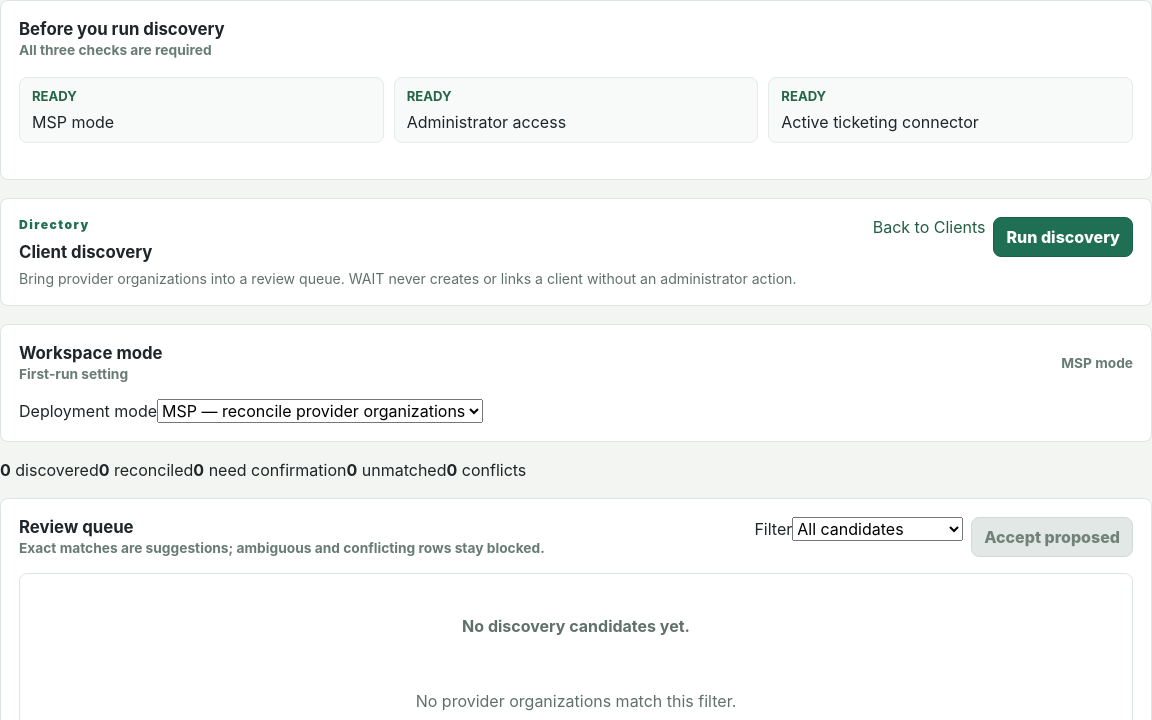
Scenario: ClientDiscovery › shows an error banner when discovery fails
Step 1. Click the button "Run discovery" → x=1063, y=237, box [994,217,1133,257]
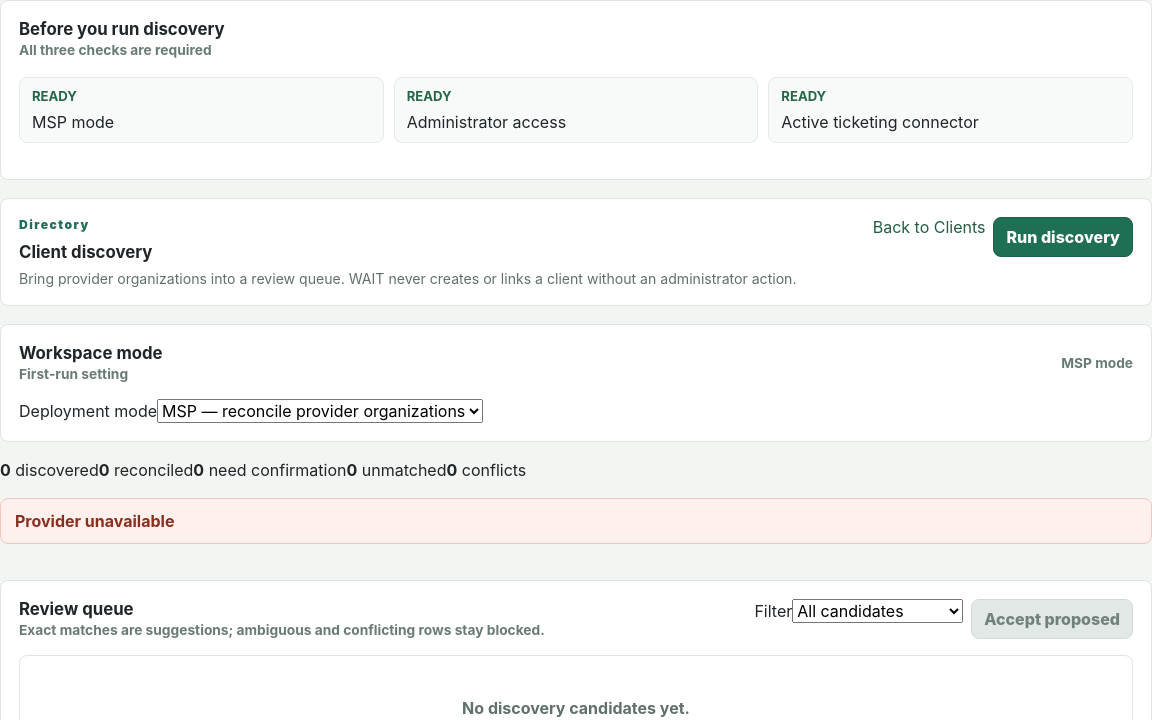
expect the message reads "Provider unavailable": met, box [15,511,174,531]
